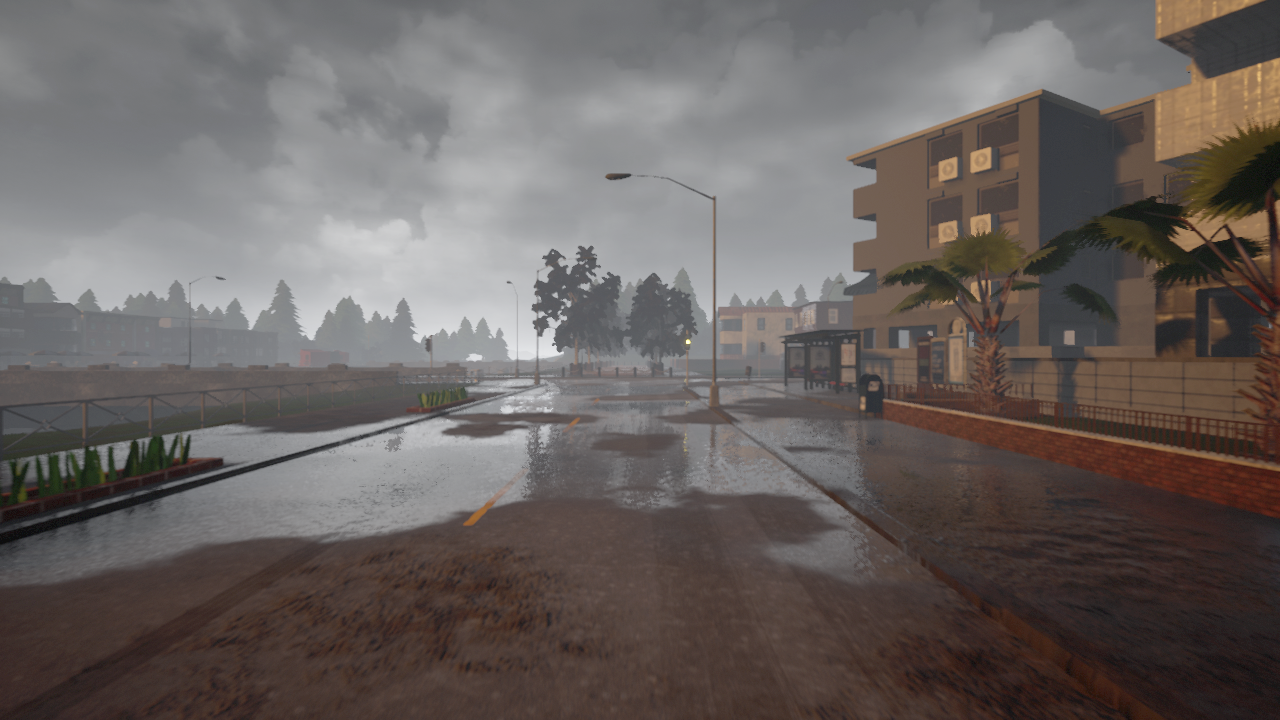yellow: (684, 334, 691, 351)
